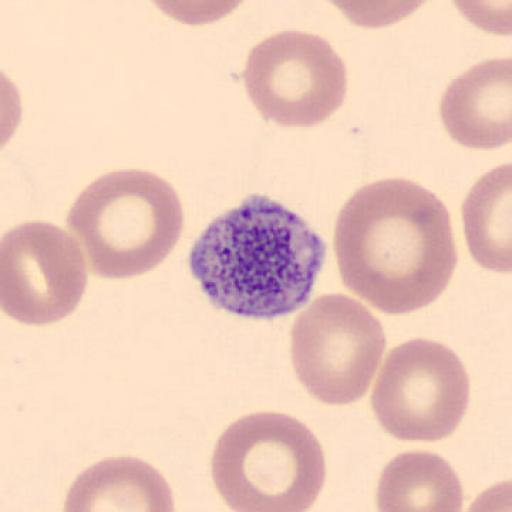Platelet: (186, 190, 328, 321)
RBC: (334, 175, 457, 317), (66, 166, 186, 280), (210, 409, 329, 512), (289, 292, 387, 408), (370, 336, 472, 446), (240, 27, 348, 130), (2, 219, 90, 327), (438, 55, 512, 152), (62, 453, 177, 512), (461, 160, 512, 276), (374, 447, 465, 512), (322, 0, 436, 30), (142, 0, 256, 27), (449, 0, 512, 38), (0, 66, 24, 155), (464, 478, 512, 512), (450, 0, 511, 24)
